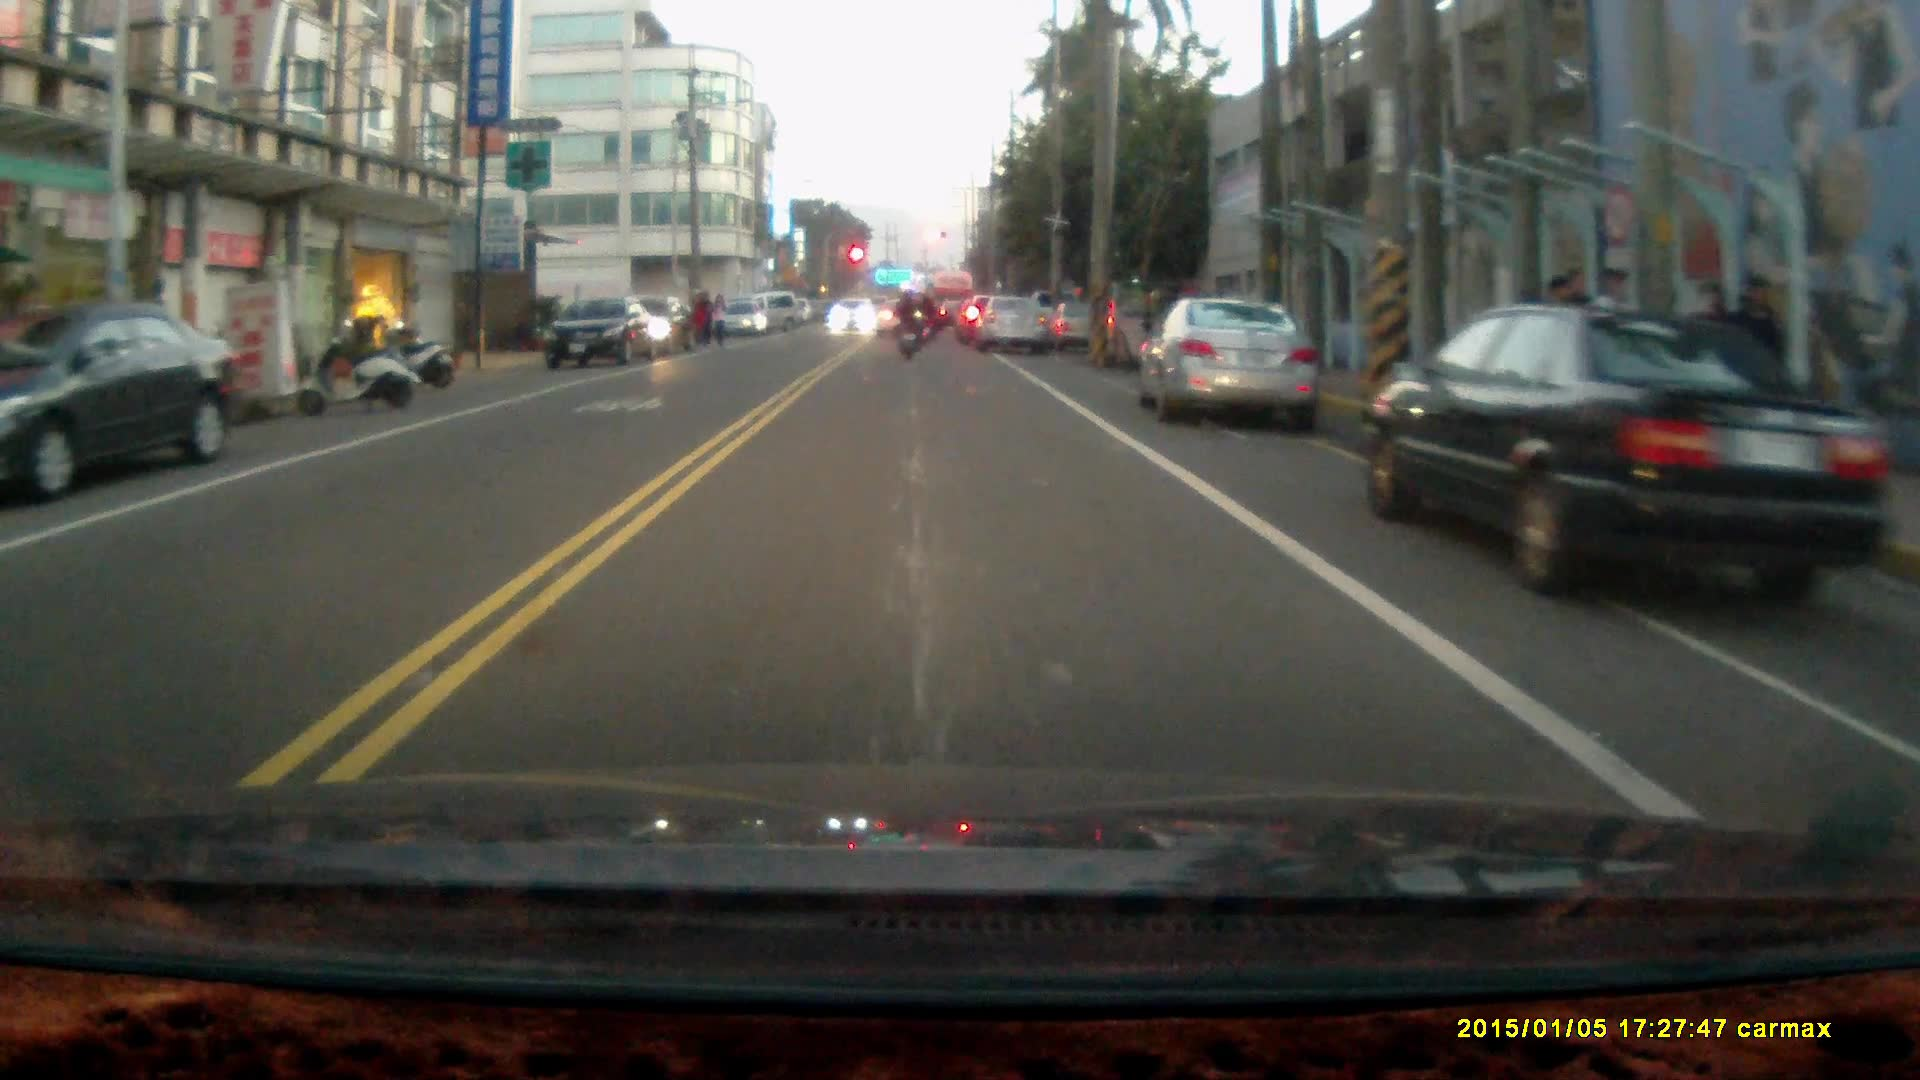pedestrian: (692, 288, 715, 349), (707, 289, 727, 349)
rider: (892, 286, 925, 362)
vehicle: (1359, 301, 1887, 617), (1, 305, 241, 493), (1138, 299, 1321, 424), (544, 301, 668, 377), (976, 293, 1051, 351)
